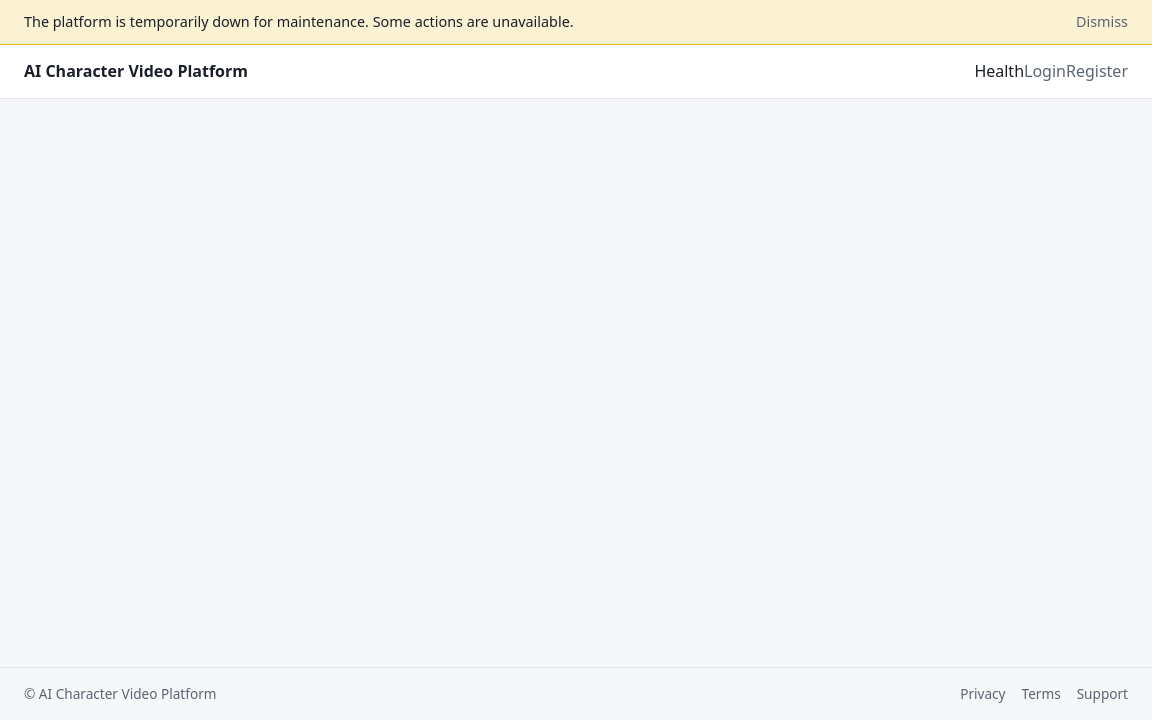
Test: AppLayout › shows the maintenance banner on app:maintenance and dismisses it
expect the message shows "maintenance": met, box x1=24 y1=12 x2=574 y2=31
Click the button with aria-label "dismiss maintenance notice". click: [1102, 22]
box: x1=1076 y1=11 x2=1128 y2=33
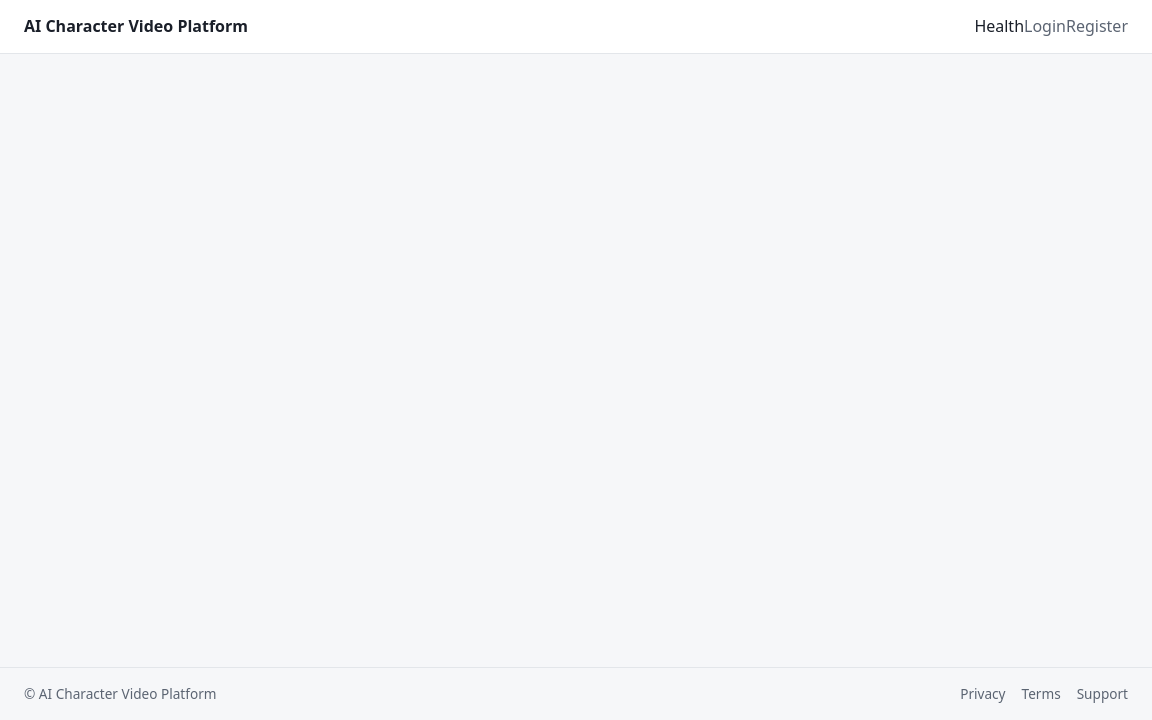
expect the message "The platform is temporarily down for maintenance. Some actions are unavailable." is gone: met
